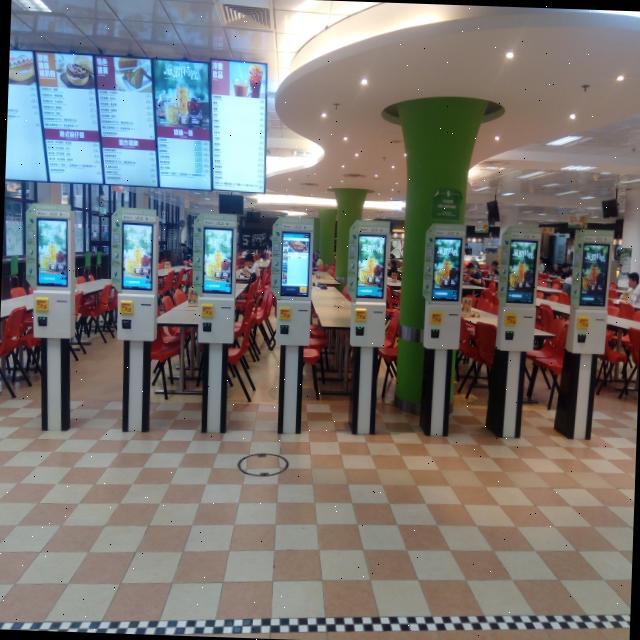orderKiosk: (29, 210, 76, 340), (194, 217, 238, 344), (114, 218, 158, 344), (424, 230, 464, 350), (274, 226, 312, 346), (351, 228, 389, 347), (500, 232, 538, 350), (572, 238, 609, 354)
